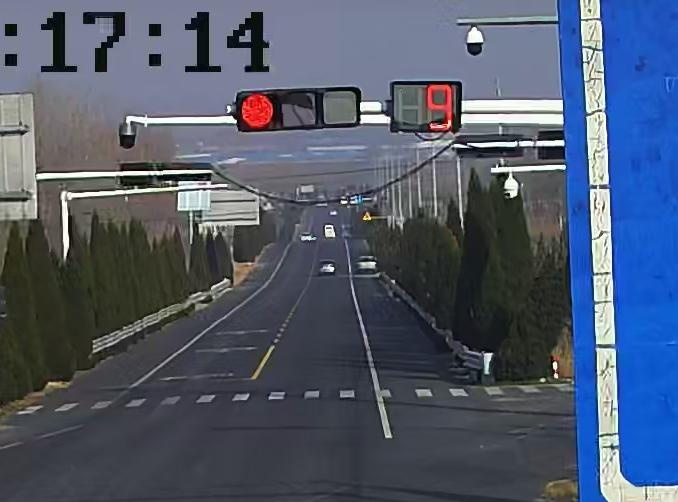red: (239, 91, 275, 130)
redtime: (421, 83, 456, 129)
